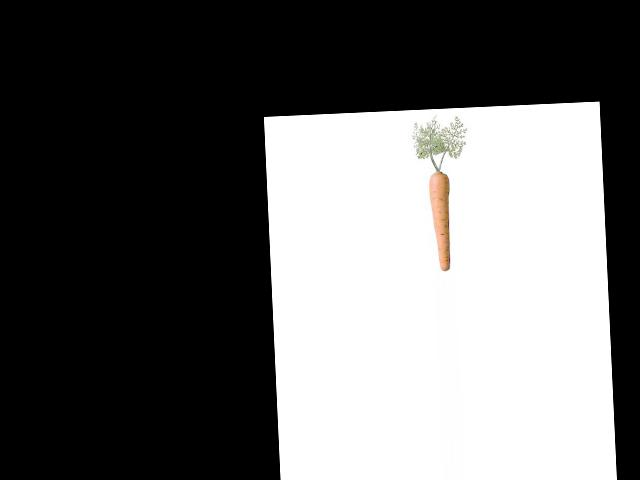carrot: (422, 168, 459, 273)
